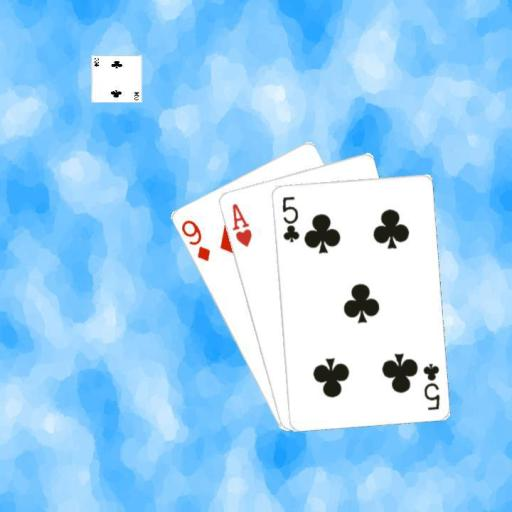5C: (278, 193, 301, 243), (419, 359, 441, 411)
9D: (177, 216, 212, 263)
AH: (228, 200, 253, 248)
